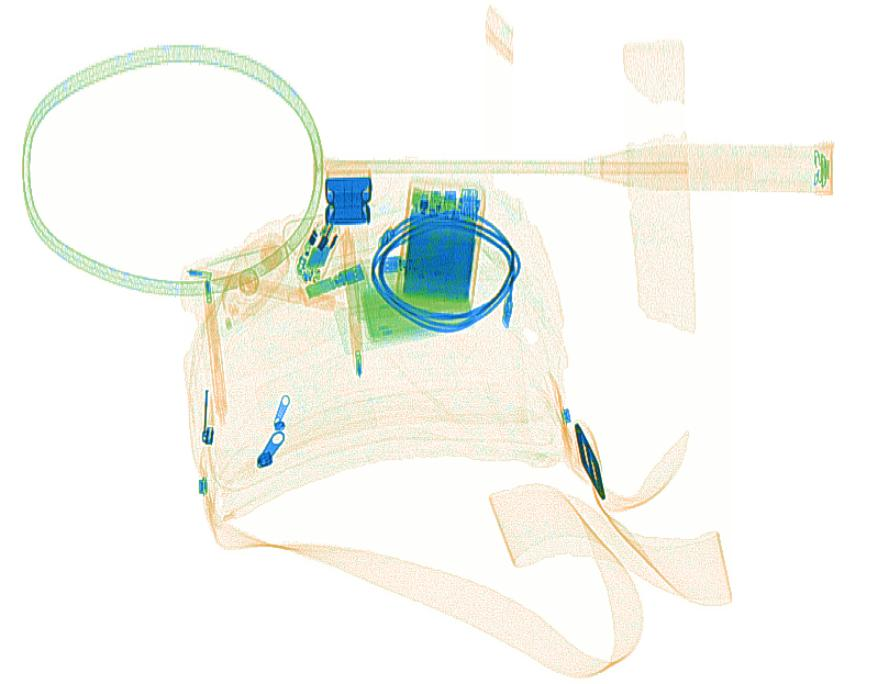USBFlashDisk: (302, 259, 369, 303), (376, 250, 457, 276)
